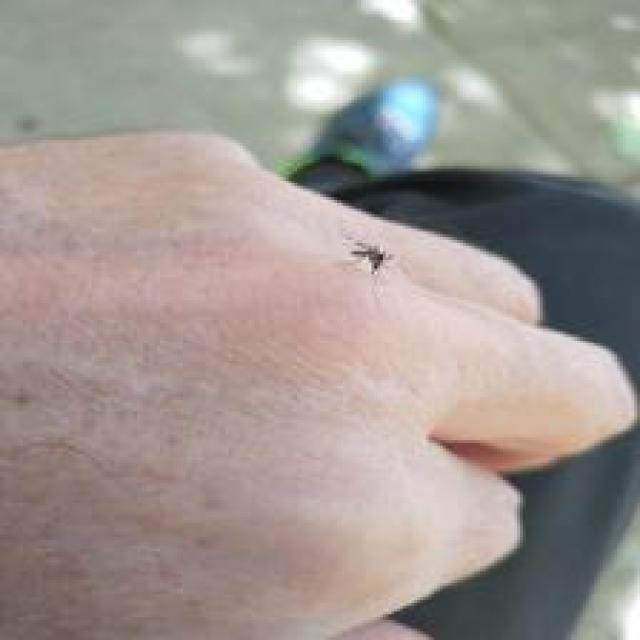Aedes albopictus: (350, 240, 393, 277)
